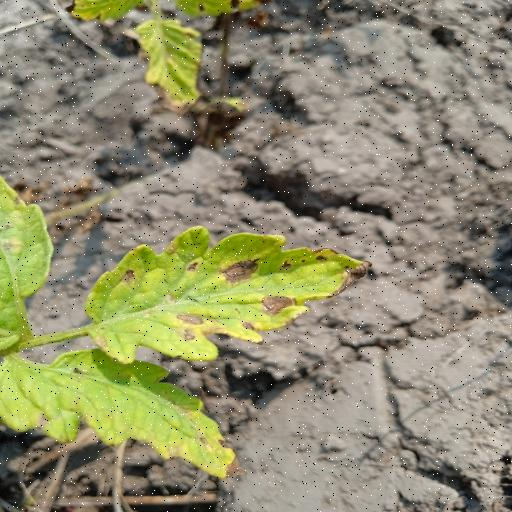Tomato_Brown_Spots: (81, 225, 375, 369), (0, 341, 242, 483)
